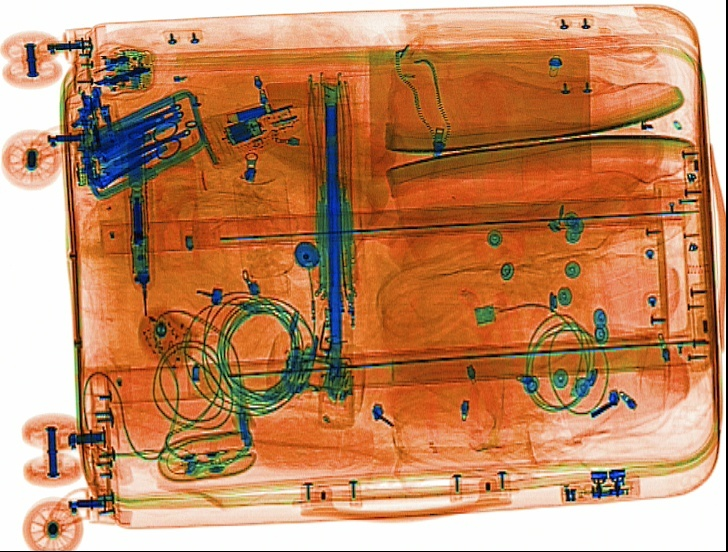scissors: (97, 120, 186, 177)
